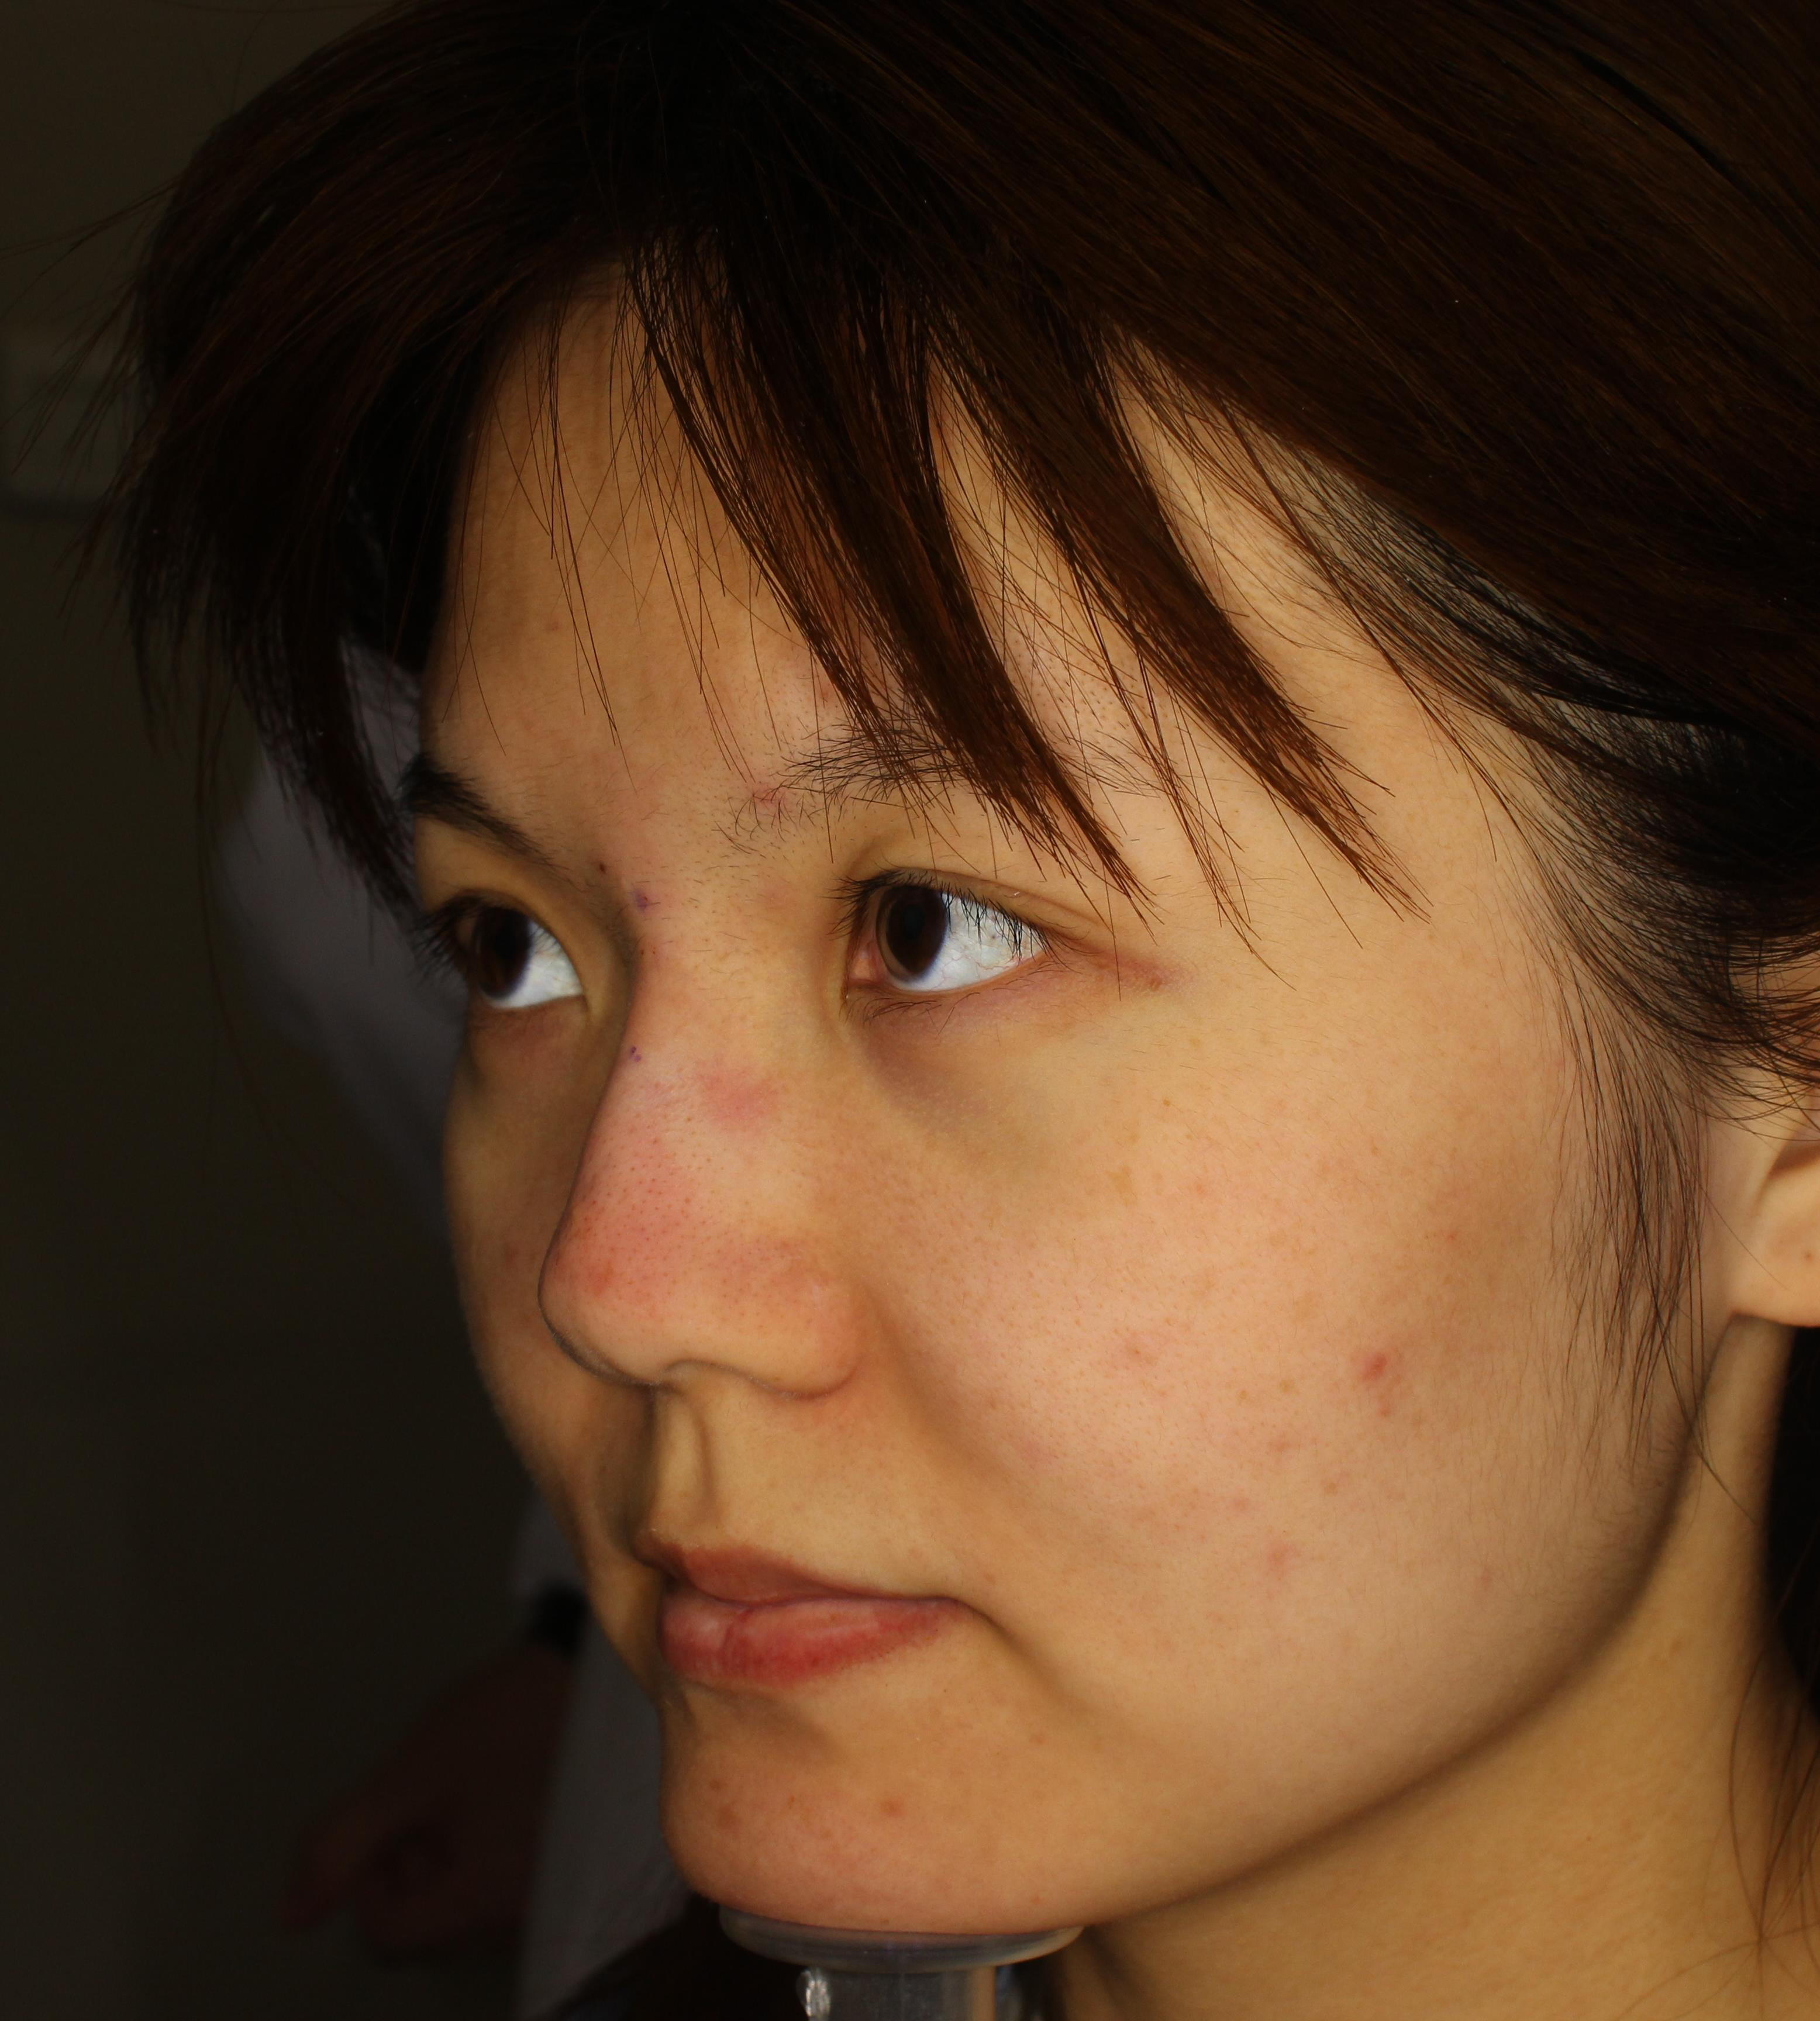fore: (1332, 1329, 1426, 1424)
